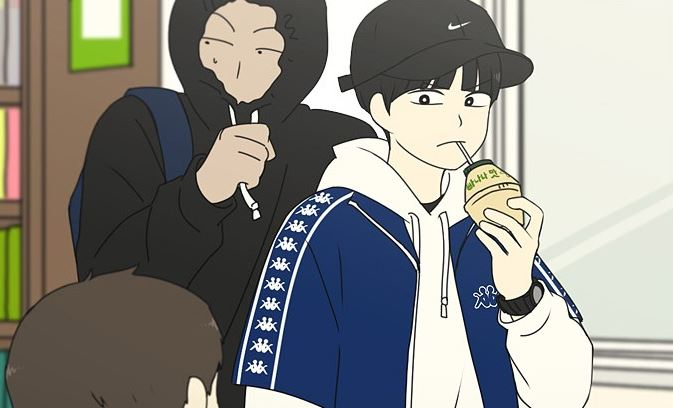hat: (349, 1, 533, 94)
